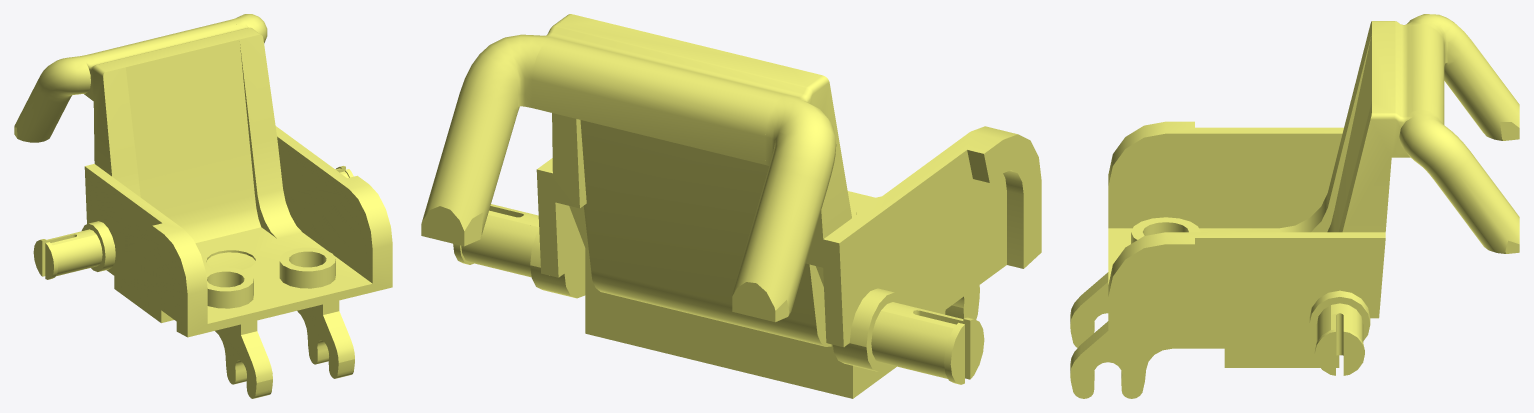
3 views of the same model, side by side, from view 1: azimuth 30°, elevation 25°; view 2: azimuth 150°, elevation 25°; view 3: azimuth 270°, elevation 25° (orthographic). The views are drawn at different scales.
Parts seen in each view (by area): view 1: 24312.dat; view 2: 24312.dat; view 3: 24312.dat.
Boxes of the visible parts, bbox=[...] form: 24312.dat: bbox=[14, 14, 392, 398]; 24312.dat: bbox=[421, 14, 1041, 398]; 24312.dat: bbox=[1070, 14, 1519, 398].
Size of the model in its own units: 0.0296 by 0.023 by 0.031.
